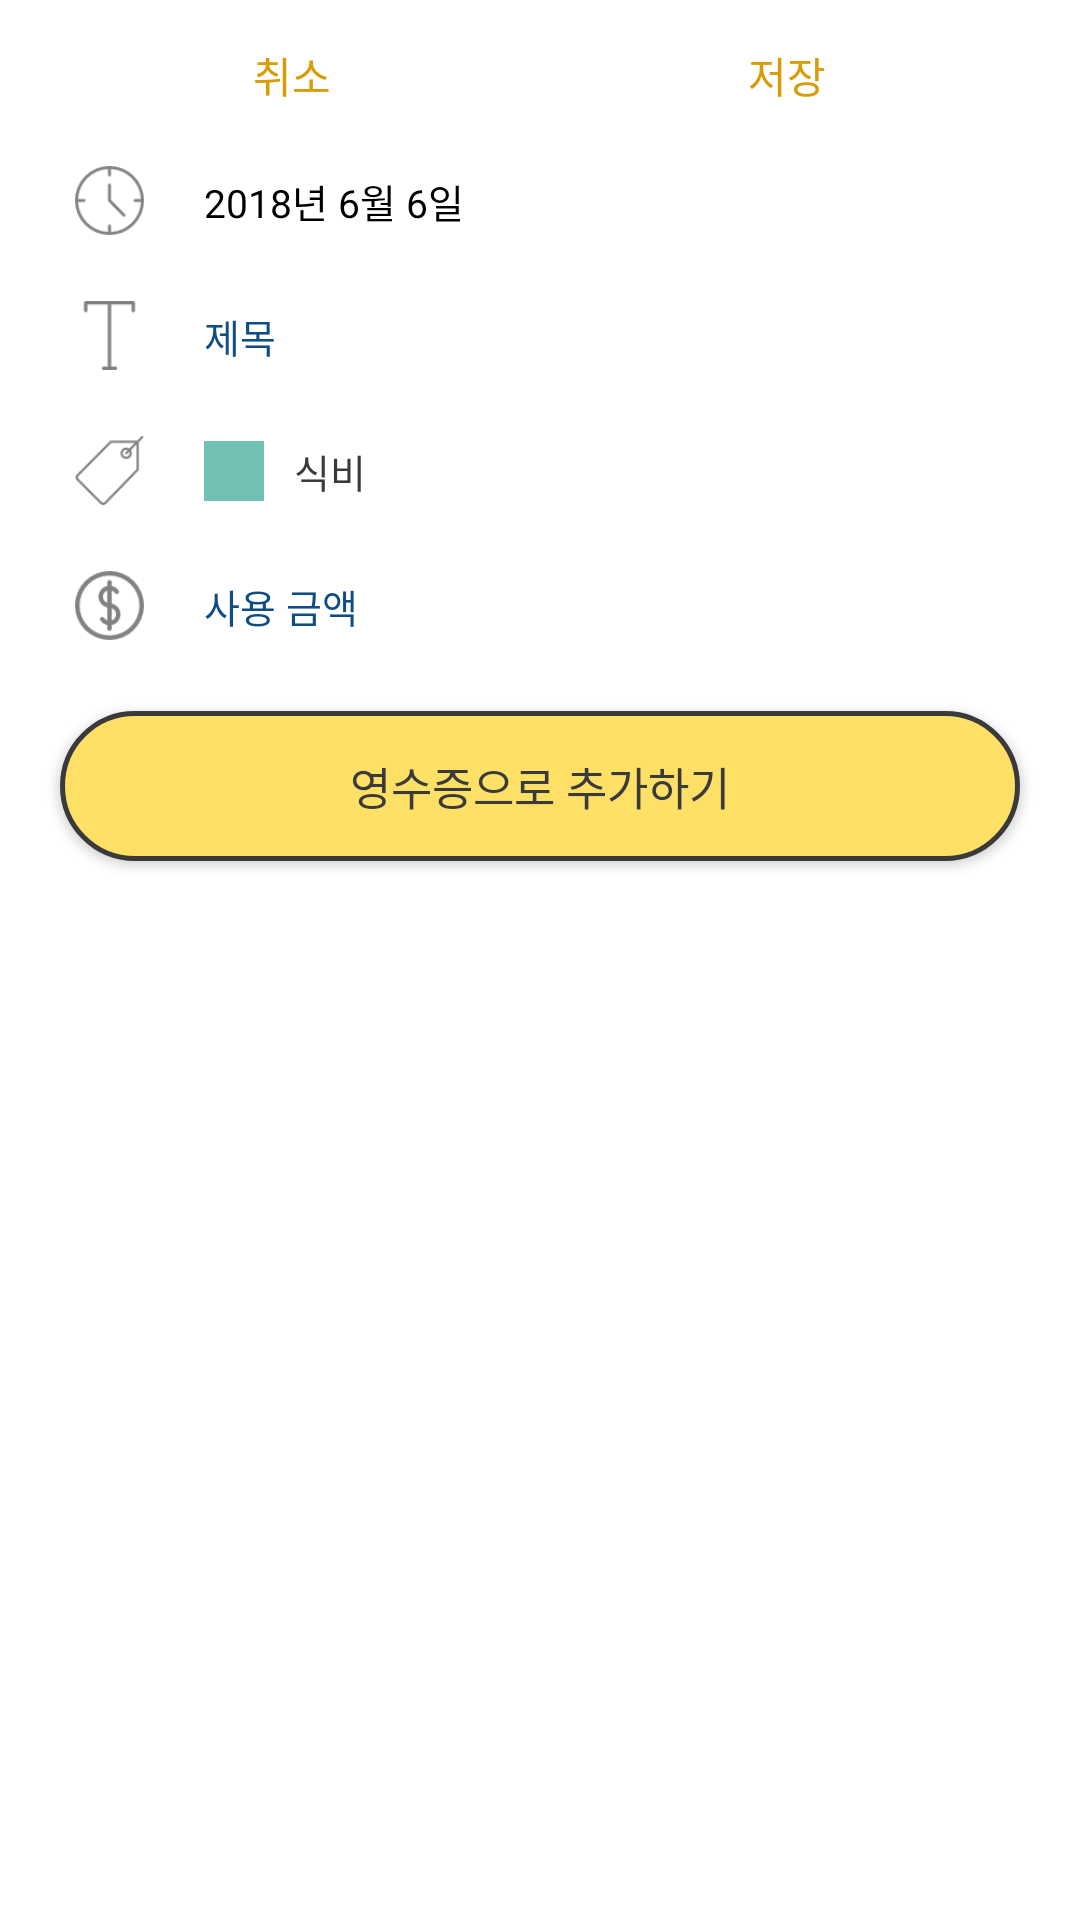

Screen size 1080*1920. Icon name, then its box in pixels as bbox=[x1, y1, x2, y2]:
clock: bbox=[75, 166, 144, 235]
coin: bbox=[75, 571, 144, 640]
tag: bbox=[75, 436, 144, 505]
text: bbox=[83, 301, 136, 370]
